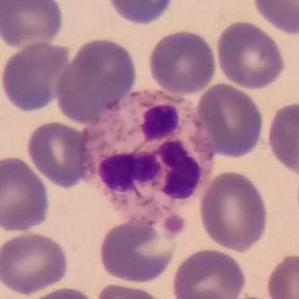Neutrophil: (76, 86, 217, 232)
Platelets: (162, 213, 187, 239)
RBC: (53, 35, 140, 125), (96, 210, 183, 286), (197, 168, 271, 254), (193, 81, 267, 160), (0, 40, 73, 113), (214, 19, 288, 91), (25, 118, 94, 190), (146, 28, 219, 96), (0, 229, 71, 296), (169, 245, 248, 299), (0, 153, 52, 234), (0, 0, 66, 49), (264, 99, 299, 178), (104, 0, 180, 27), (263, 250, 299, 299), (250, 0, 299, 36), (93, 281, 168, 299), (19, 285, 101, 299)
